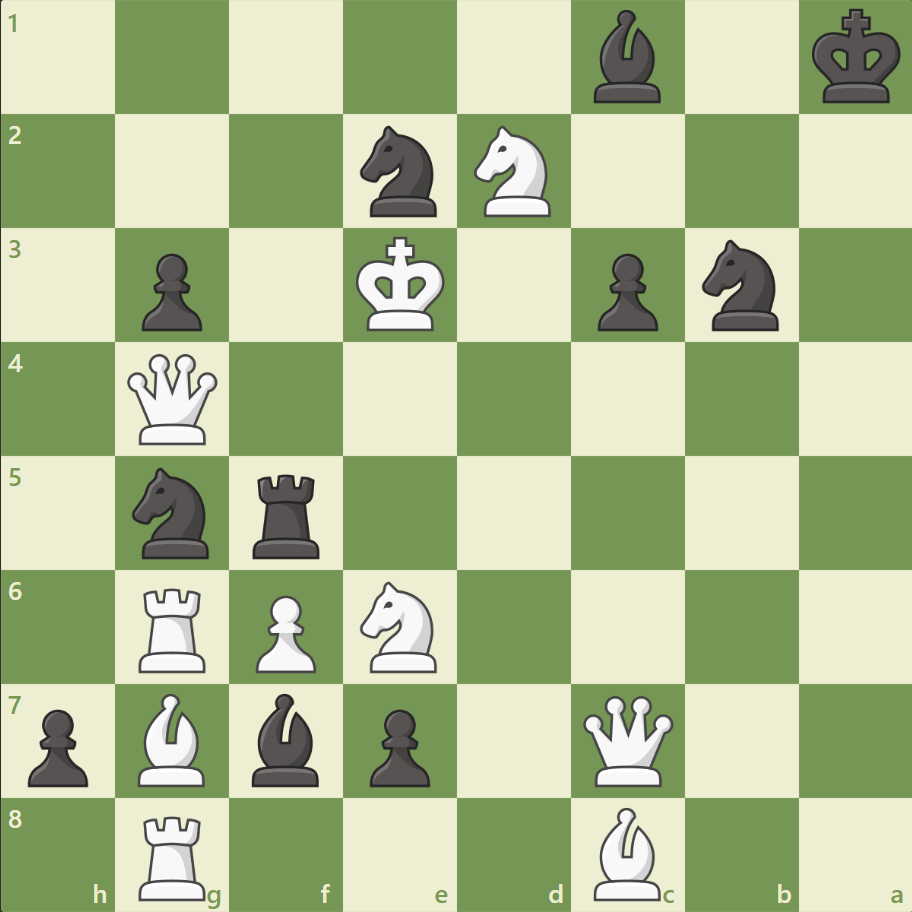B: (585, 801, 669, 904), (131, 687, 215, 790)
K: (351, 231, 451, 339)
N: (351, 575, 449, 677), (465, 121, 562, 223)
P: (247, 586, 322, 677)
Q: (124, 349, 223, 449), (578, 690, 677, 789)
R: (133, 806, 215, 904), (133, 579, 215, 676)
b: (244, 687, 328, 790), (585, 6, 669, 109)
k: (806, 4, 906, 112)
n: (124, 461, 222, 564), (351, 121, 449, 223), (692, 234, 789, 337)
p: (20, 700, 95, 791), (133, 246, 208, 337), (361, 700, 435, 791), (588, 246, 662, 337)
r: (246, 466, 329, 563)
